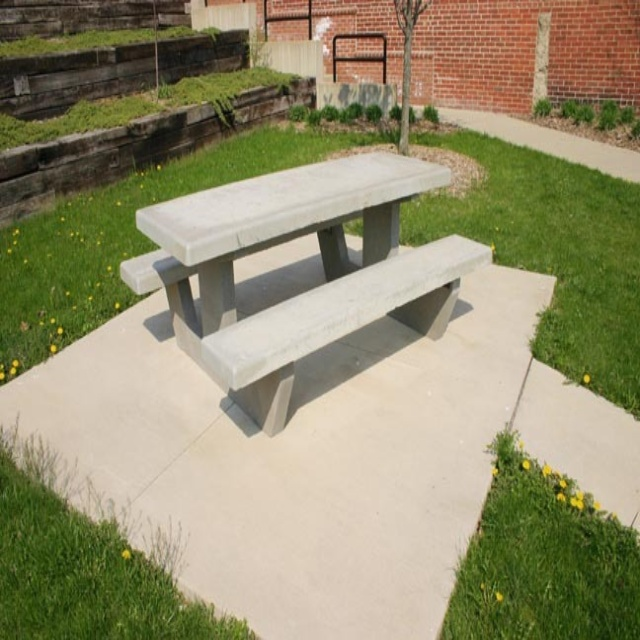obstacle: (97, 138, 489, 435)
